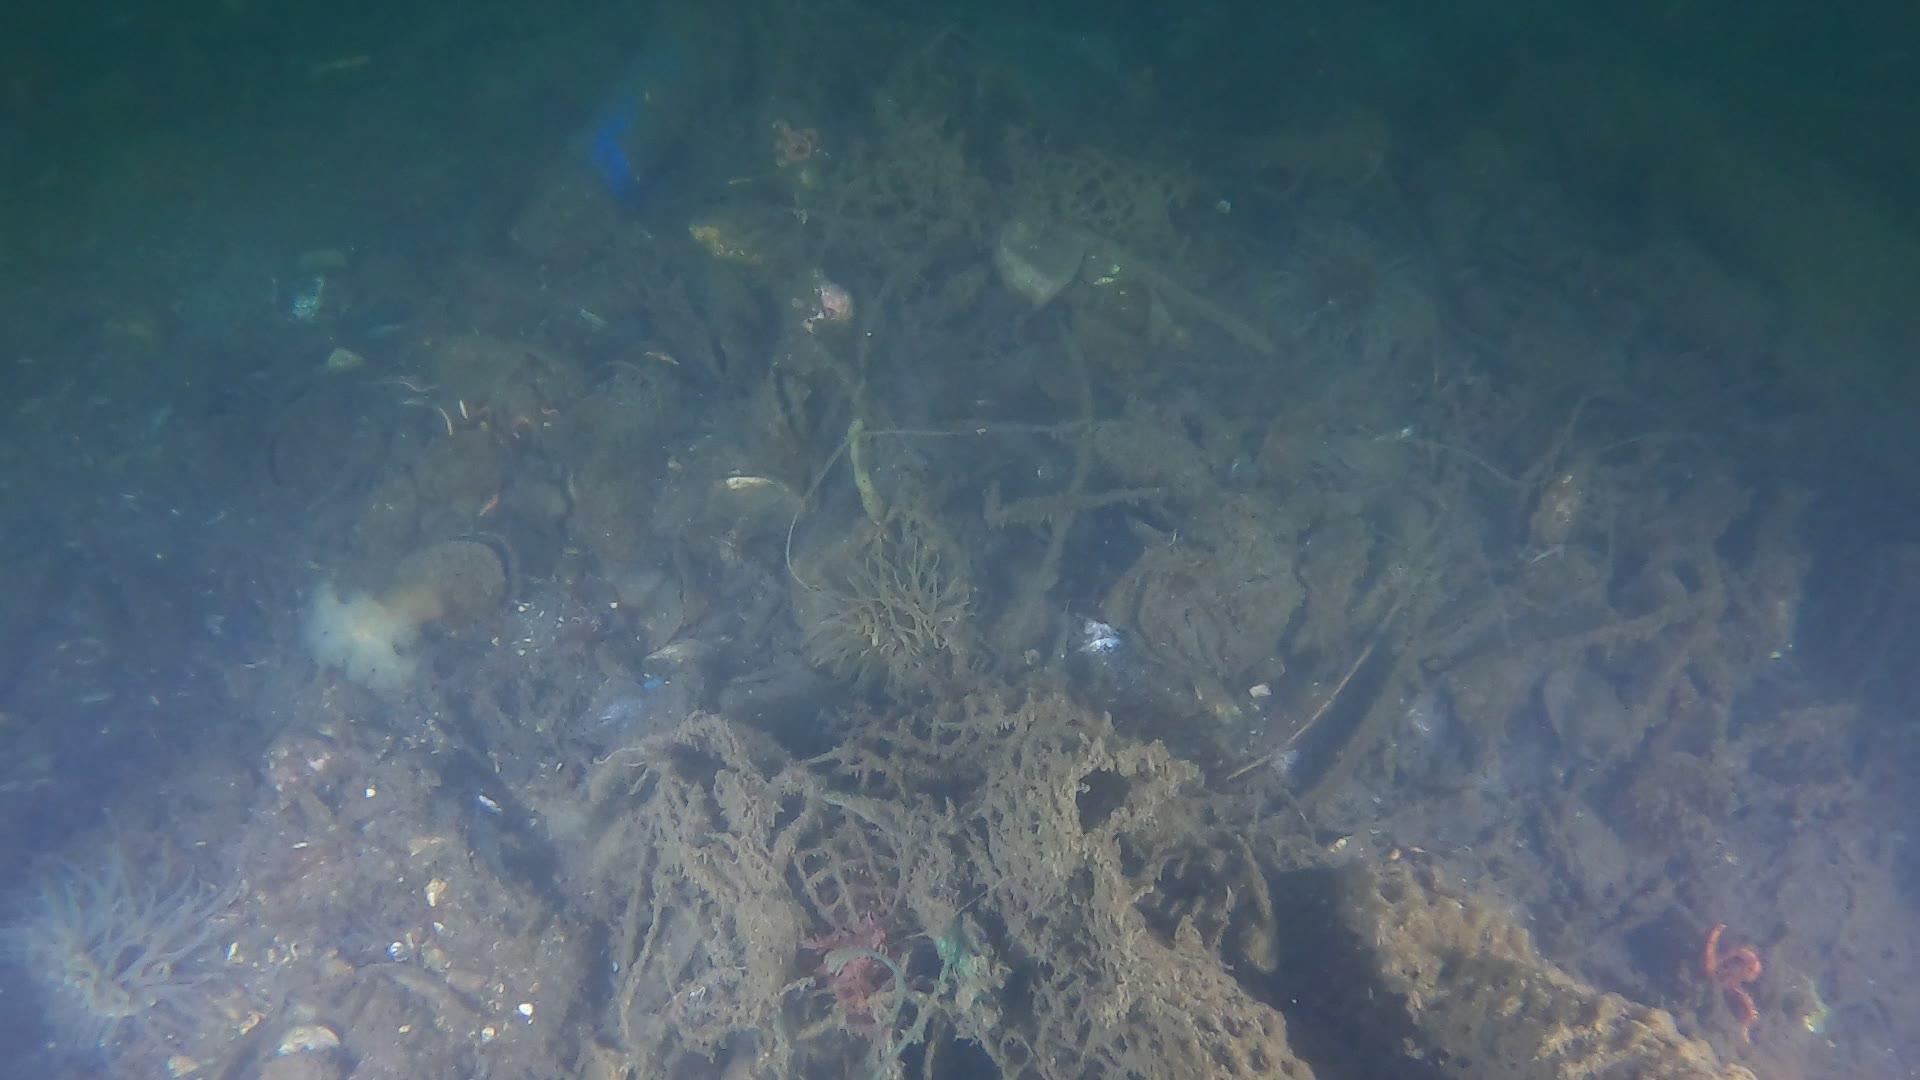fish net: (771, 688, 1771, 1080)
